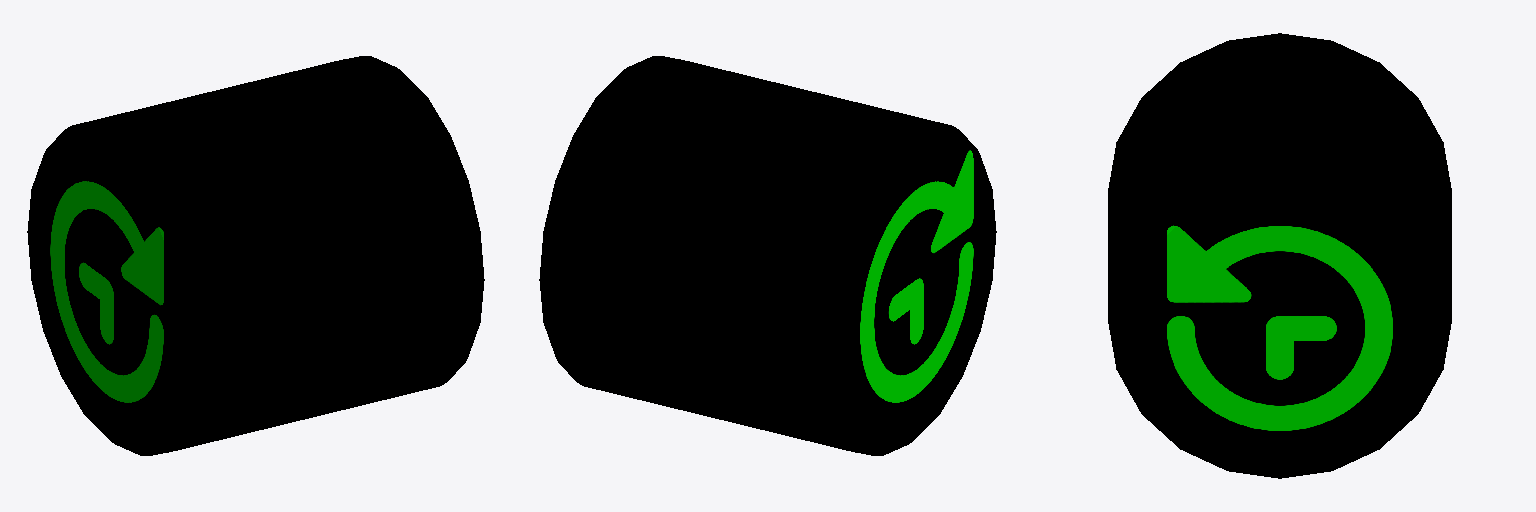
The picture shows the model from 3 angles: view 1: azimuth 30°, elevation 25°; view 2: azimuth 150°, elevation 25°; view 3: azimuth 270°, elevation 25°; orthographic projection.
Parts seen in each view (by area): view 1: default; view 2: default; view 3: default.
Boxes of the visible parts, x1,y1,x2,y2 form: default: [27, 56, 484, 455]; default: [539, 56, 996, 455]; default: [1108, 33, 1451, 478].
Bounding box in the file's own units: 1 × 1 × 1.
1 materials, 1 textured.